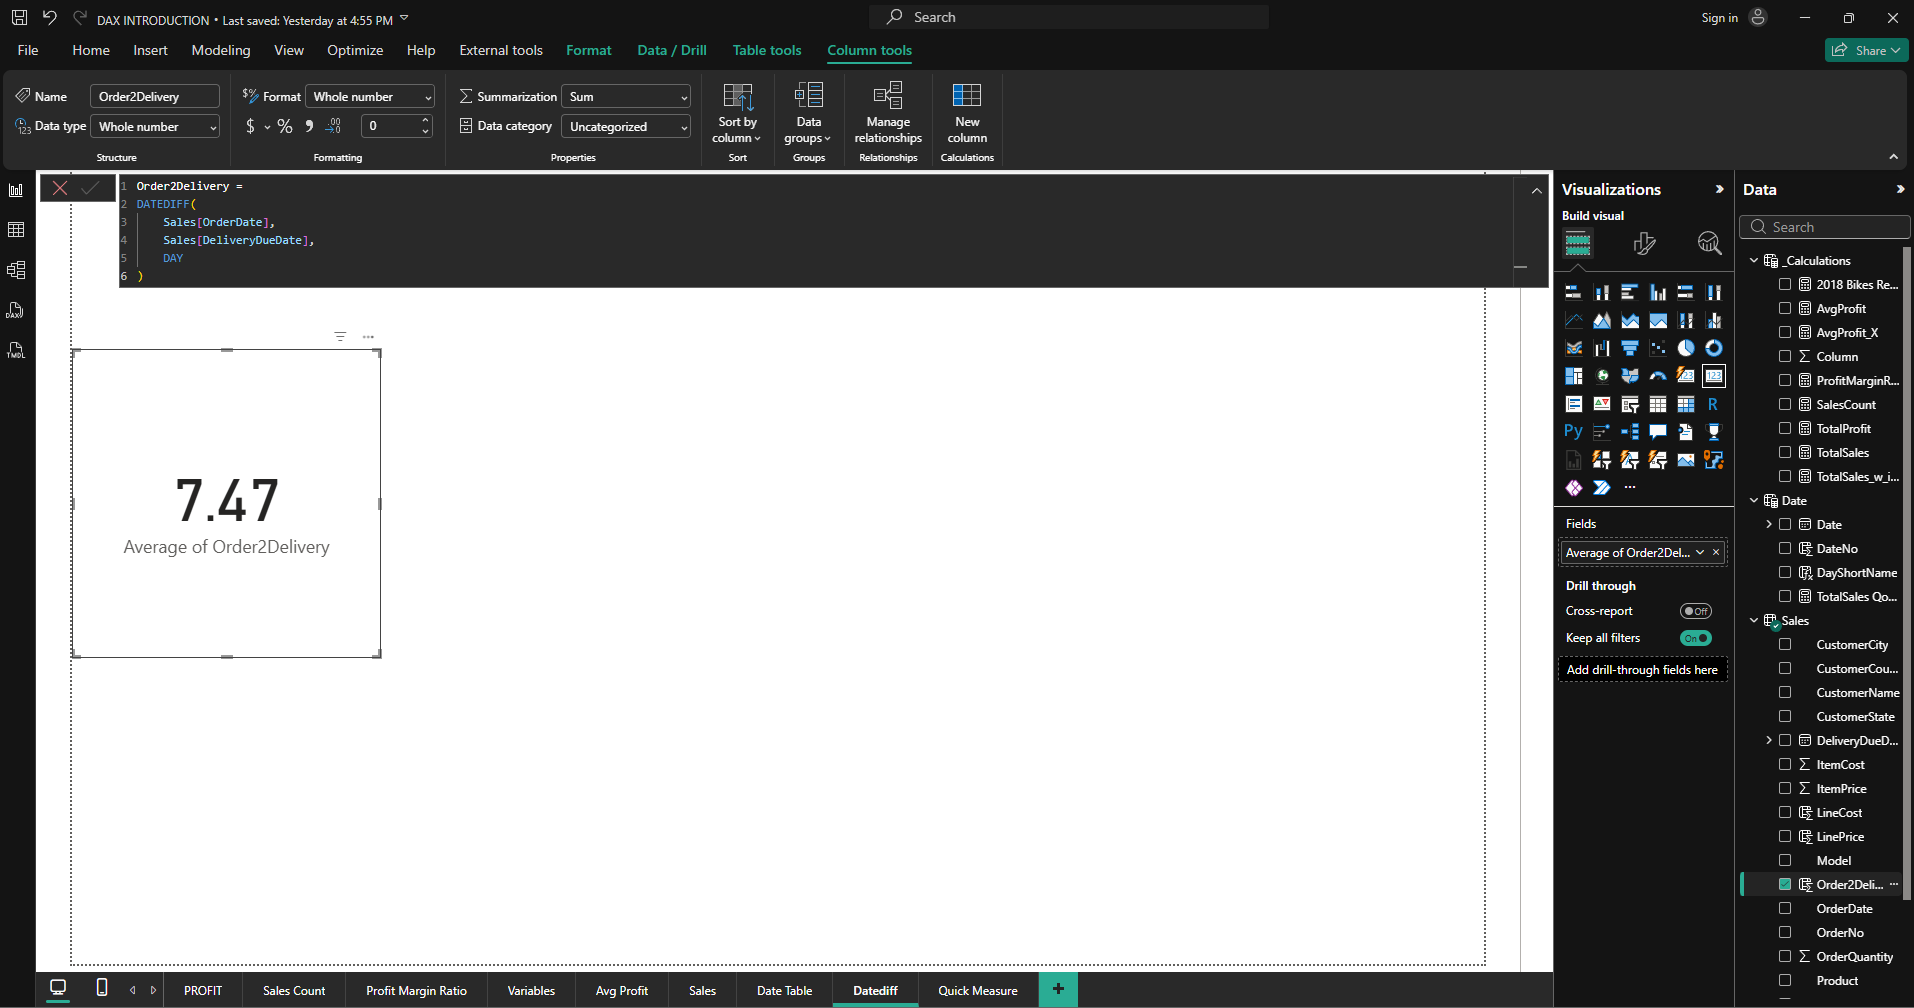

The page's visual inventory and layout, read from the dashboard file:
{"tool":"powerbi","page":{"name":"Datediff","canvas":[1280,720],"ordinal":7},"visuals":[{"type":"card","fields":{"Values":["Avg(Sales.Order2Delivery)"]},"box":[10,0,280,280],"z":0}]}

Visuals, with their boxes on the page's 1280x720 design canvas (x1, y1, x2, y2). These are canvas units, not pixel positions in the 1914x1008 screenshot, which may show the page scaled, cropped or inside an application window:
card - Avg(Sales.Order2Delivery): (left=10, top=0, right=290, bottom=280)
